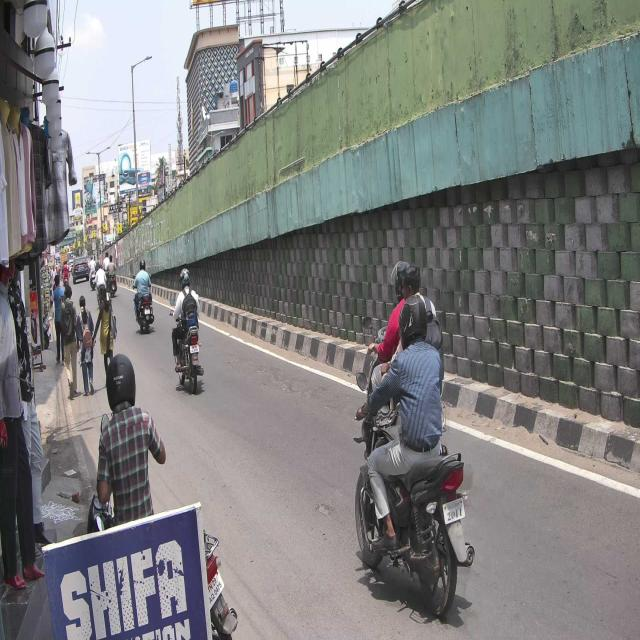single_rider: (354, 295, 473, 620)
